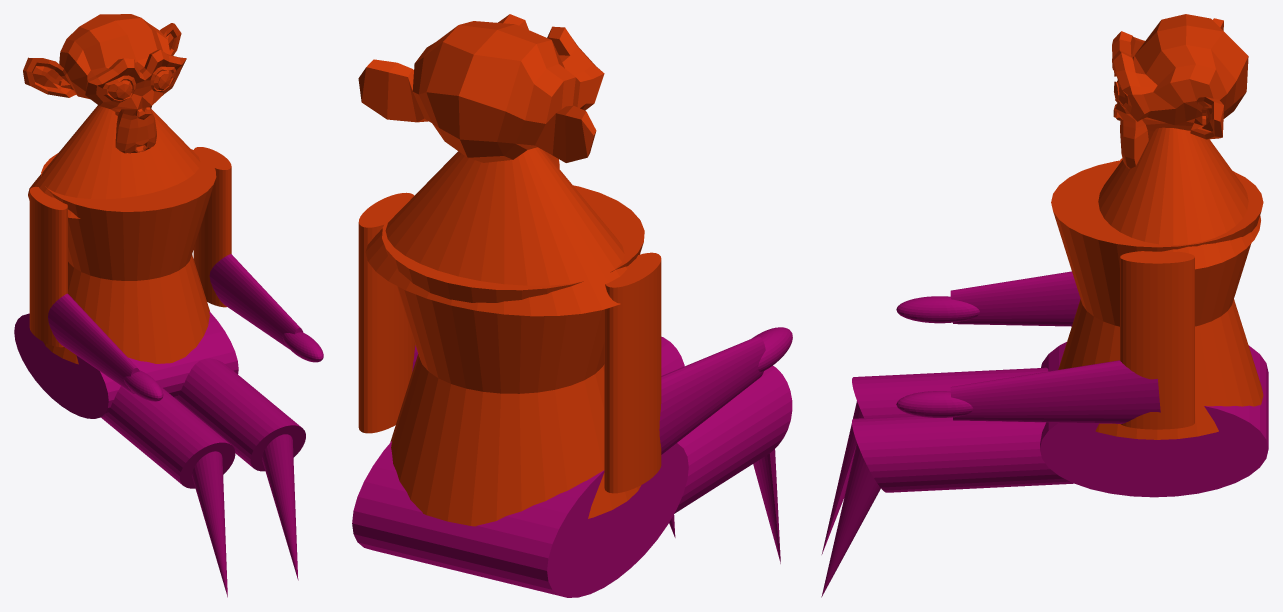
The model's file is bob.obj.
The picture shows the model from 3 angles, left to right: view 1: azimuth 30°, elevation 25°; view 2: azimuth 150°, elevation 25°; view 3: azimuth 270°, elevation 25°; orthographic projection. The views are drawn at different scales.
Visible parts, largest first — view 1: Cylinder_Cylinder.001, Cylinder.001_Cylinder.002; view 2: Cylinder_Cylinder.001, Cylinder.001_Cylinder.002; view 3: Cylinder_Cylinder.001, Cylinder.001_Cylinder.002.
Part boxes in pixels (x1,y1,x2,y2): Cylinder_Cylinder.001: [23, 14, 231, 364]; Cylinder.001_Cylinder.002: [14, 254, 323, 597]; Cylinder_Cylinder.001: [358, 14, 661, 526]; Cylinder.001_Cylinder.002: [352, 327, 792, 597]; Cylinder_Cylinder.001: [1051, 14, 1263, 439]; Cylinder.001_Cylinder.002: [821, 271, 1268, 597].
Bounding box in the file's own units: 6.99 × 16.3 × 11.94.
